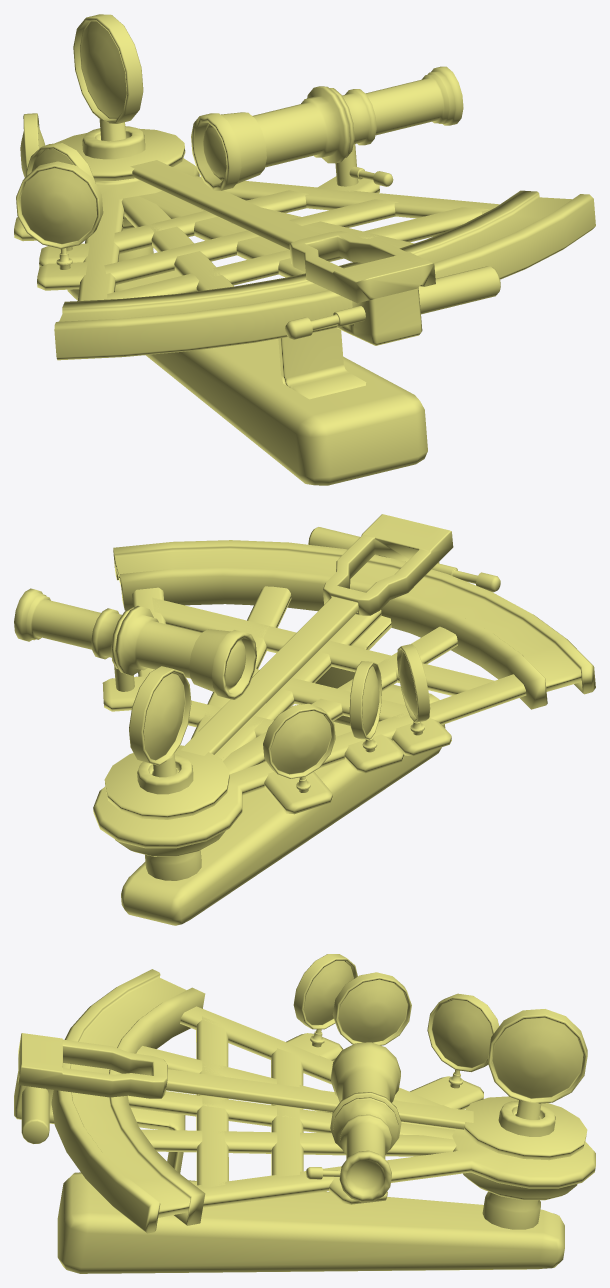
The model's file is Sextant.fbx.
The picture shows the model from 3 angles, top to bottom: view 1: azimuth 30°, elevation 25°; view 2: azimuth 150°, elevation 25°; view 3: azimuth 270°, elevation 25°; orthographic projection. The views are drawn at different scales.
Visible parts, largest first — view 1: polySurface6199; view 2: polySurface6199; view 3: polySurface6199.
Boxes of the visible parts, left/top/right/bottom form: polySurface6199: left=14, top=14, right=595, bottom=485; polySurface6199: left=14, top=514, right=595, bottom=925; polySurface6199: left=14, top=954, right=595, bottom=1273.
Size of the model in its own units: 0.3267 by 0.1588 by 0.3396.
